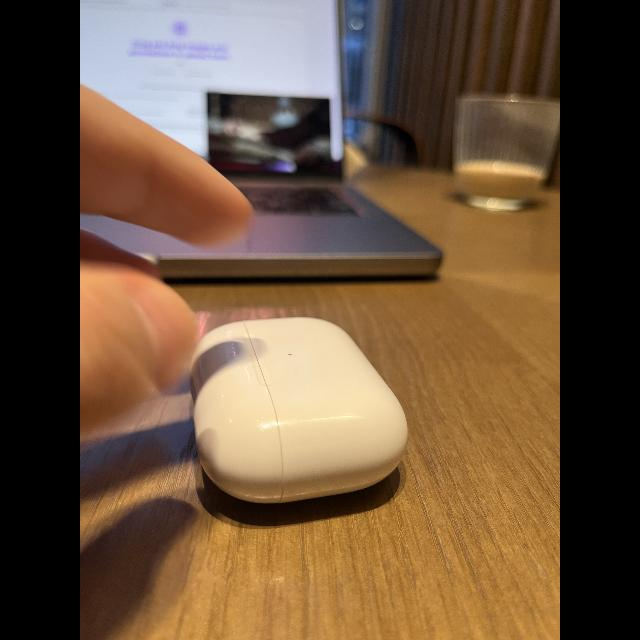AirPods Pro: (185, 314, 418, 528)
